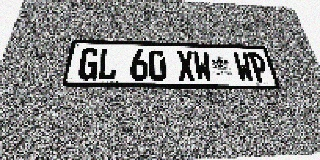0: (149, 50, 166, 81)
6: (130, 49, 148, 81)
G: (77, 48, 100, 80)
L: (97, 48, 118, 81)
P: (248, 53, 271, 82)
W: (233, 52, 255, 82), (193, 51, 213, 81)
X: (176, 51, 196, 81)
